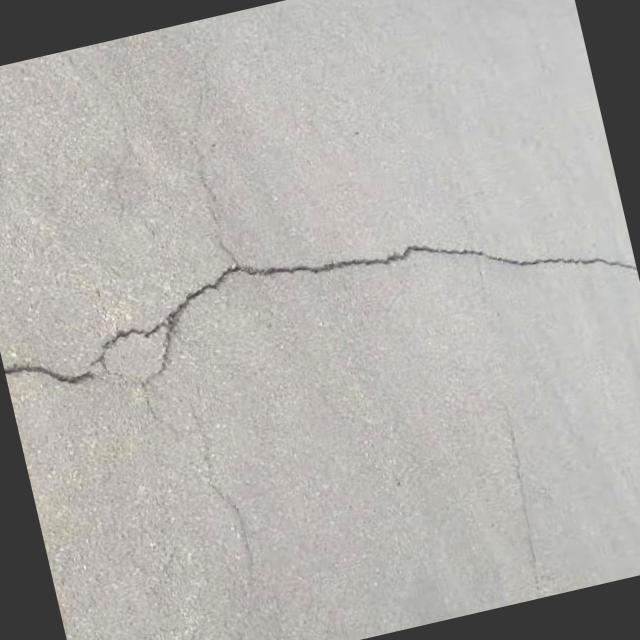crack: (0, 173, 630, 416), (126, 372, 278, 640), (482, 385, 558, 598), (172, 82, 244, 264)
